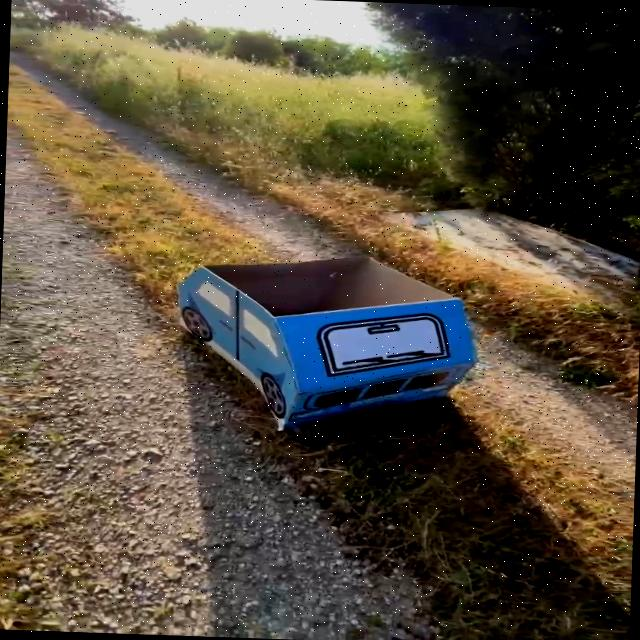blue_car: (130, 225, 547, 462)
